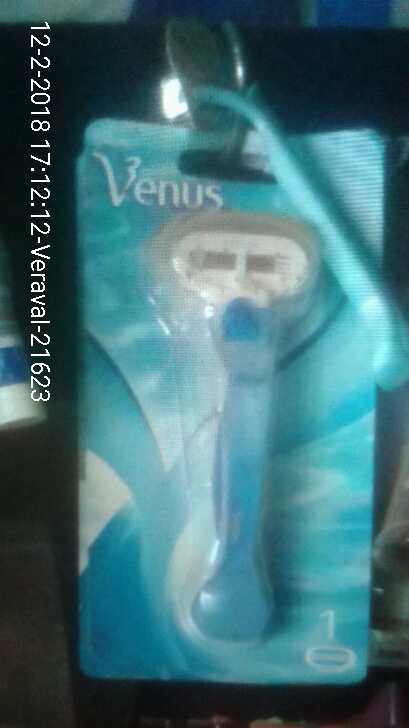beauty: (80, 144, 376, 681)
